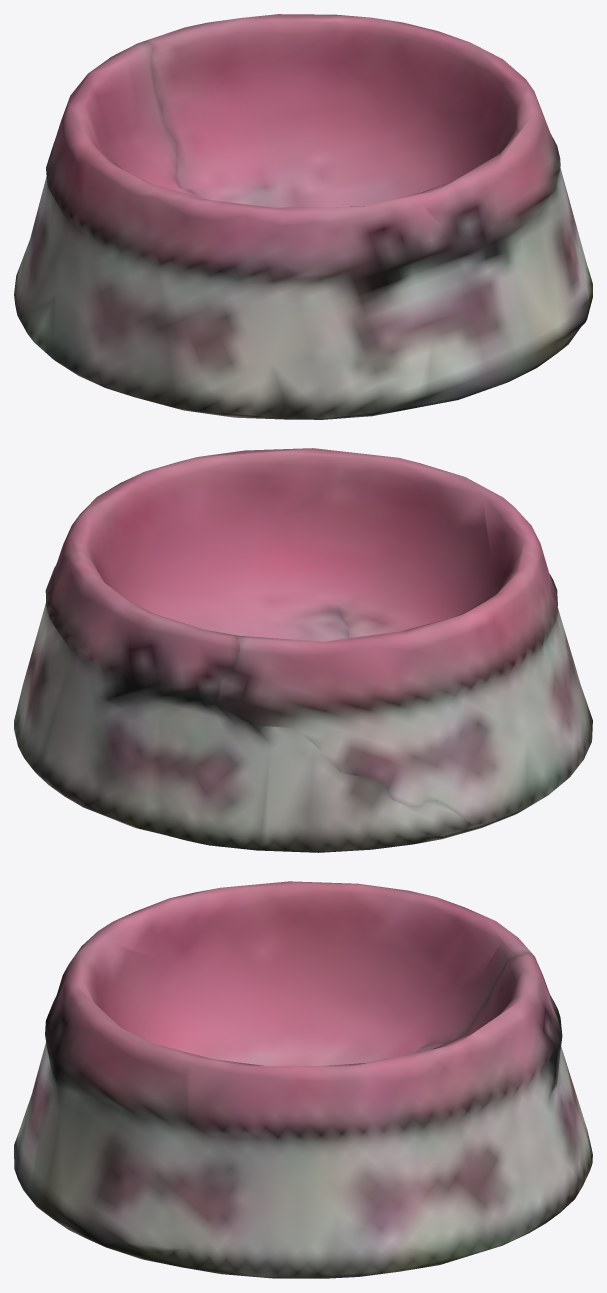
The model's file is Top_Paw_Dog_Bow_Bone_Ceramic_13_fl_oz_total-medium.glb.
3 renders of one model, top to bottom at view 1: azimuth 30°, elevation 25°; view 2: azimuth 150°, elevation 25°; view 3: azimuth 270°, elevation 25°, orthographic.
Parts seen in each view (by area): view 1: Top_Paw_Dog_Bow_Bone_Ceramic_13_fl_oz_total; view 2: Top_Paw_Dog_Bow_Bone_Ceramic_13_fl_oz_total; view 3: Top_Paw_Dog_Bow_Bone_Ceramic_13_fl_oz_total.
Part boxes in pixels (x1,y1,x2,y2): Top_Paw_Dog_Bow_Bone_Ceramic_13_fl_oz_total: (14,14,592,419); Top_Paw_Dog_Bow_Bone_Ceramic_13_fl_oz_total: (14,448,592,852); Top_Paw_Dog_Bow_Bone_Ceramic_13_fl_oz_total: (14,881,592,1278).
Size of the model in its own units: 0.1841 by 0.0683 by 0.1854.
1 material, 1 textured.
